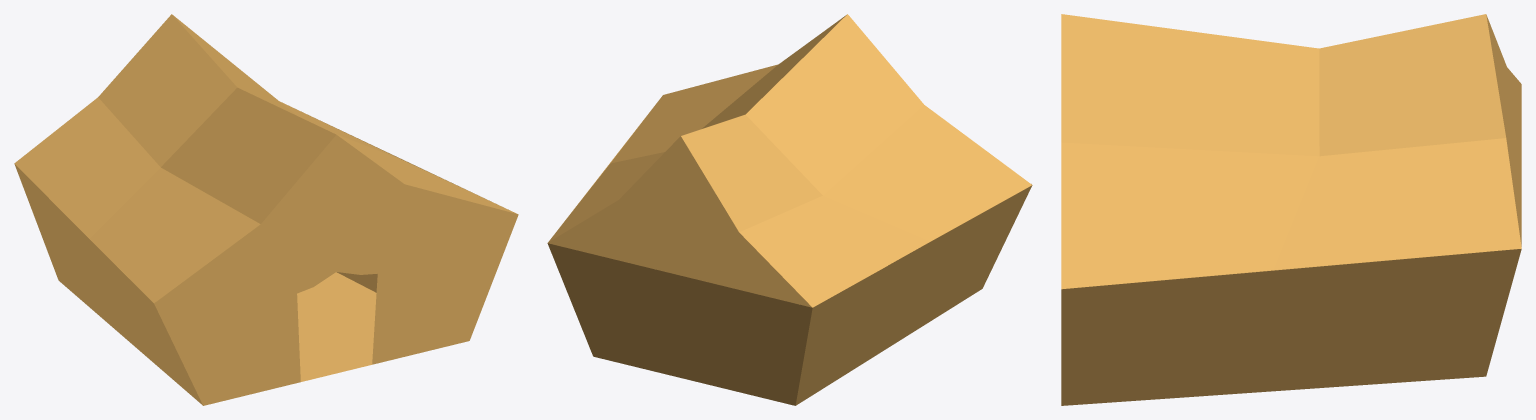
The model's file is innenzelt.fbx.
3 renders of one model, left to right at view 1: azimuth 30°, elevation 25°; view 2: azimuth 150°, elevation 25°; view 3: azimuth 270°, elevation 25°, orthographic. The views are drawn at different scales.
Parts seen in each view (by area): view 1: dach_2, Würfel_3; view 2: dach_2, Würfel_3; view 3: dach_2, Würfel_3.
Boxes of the visible parts, x1,y1,x2,y2 form: dach_2: (14,14,518,303); Würfel_3: (14,111,518,405); dach_2: (547,14,1031,307); Würfel_3: (547,103,1032,405); dach_2: (1061,14,1521,289); Würfel_3: (1061,249,1521,405).
Size of the model in its own units: 767 by 480 by 650.
